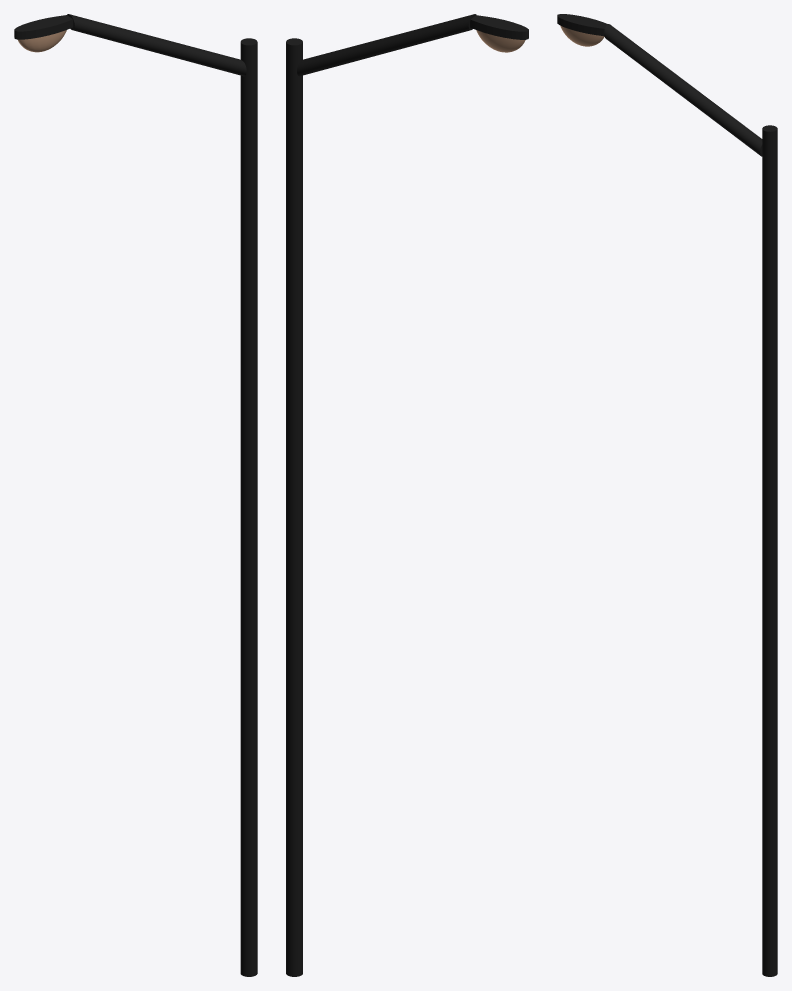
The model's file is StreetLight.fbx.
3 views of the same model, side by side, from view 1: azimuth 30°, elevation 25°; view 2: azimuth 150°, elevation 25°; view 3: azimuth 330°, elevation 25° (orthographic). The views are drawn at different scales.
Visible parts, largest first — view 1: StreetLight; view 2: StreetLight; view 3: StreetLight.
Boxes of the visible parts, x1=… form: StreetLight: x1=14, y1=14, x2=257, y2=976; StreetLight: x1=286, y1=14, x2=528, y2=976; StreetLight: x1=557, y1=14, x2=777, y2=976.
Size of the model in its own units: 315 by 1247 by 22.83.
